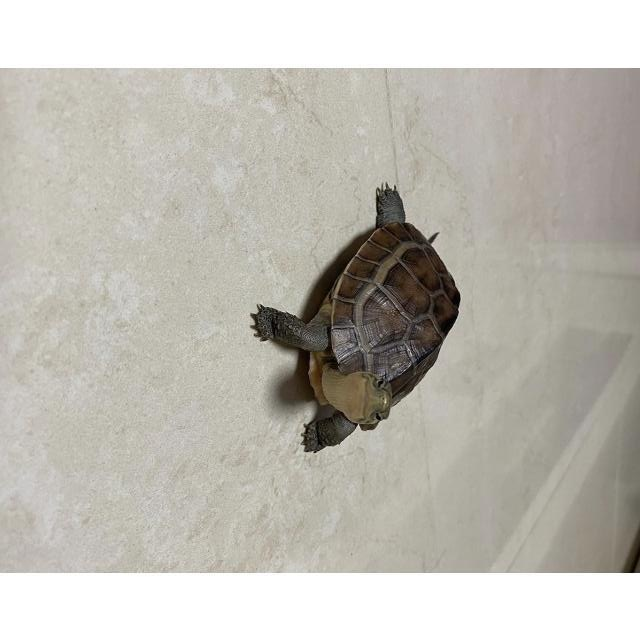turtle: (250, 182, 462, 454)
